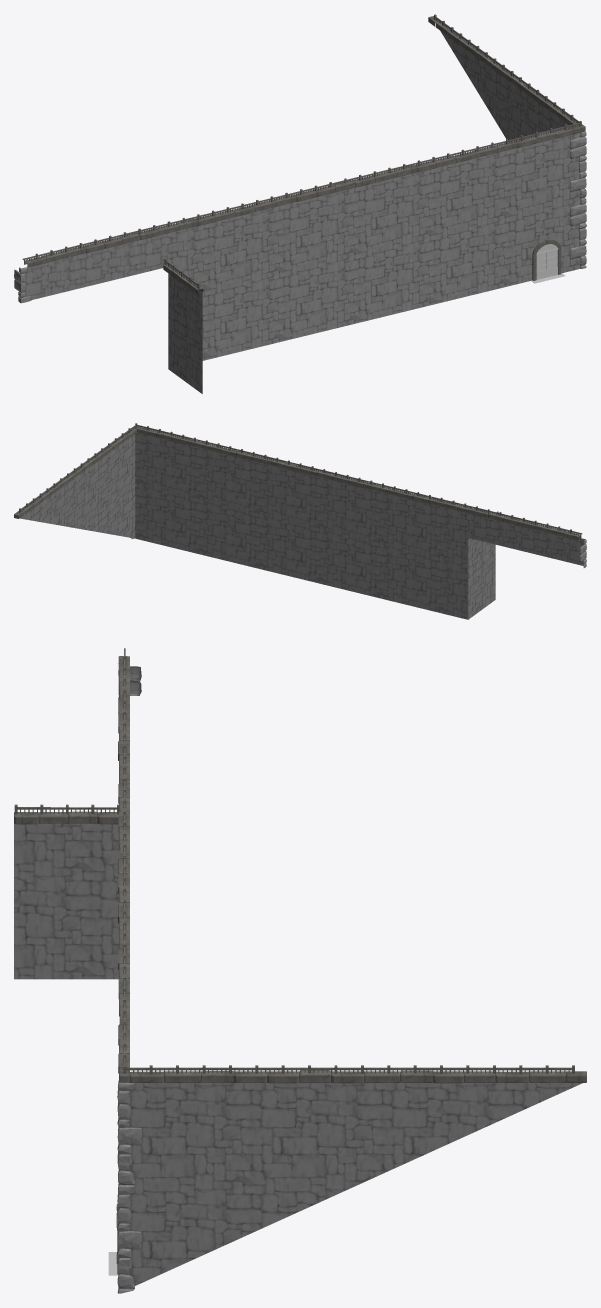
The model's file is SM_ENV_KNVLLG_Wall_01.mo.fbx.
3 views of the same model, one above another, from view 1: azimuth 30°, elevation 25°; view 2: azimuth 150°, elevation 25°; view 3: azimuth 270°, elevation 25° (orthographic). The views are drawn at different scales.
Visible parts, largest first — view 1: SM_ENV_KNVLLG_Wall_01.mo; view 2: SM_ENV_KNVLLG_Wall_01.mo; view 3: SM_ENV_KNVLLG_Wall_01.mo.
Part boxes in pixels (left/top/right/bottom): SM_ENV_KNVLLG_Wall_01.mo: left=14, top=14, right=586, bottom=393; SM_ENV_KNVLLG_Wall_01.mo: left=14, top=423, right=586, bottom=619; SM_ENV_KNVLLG_Wall_01.mo: left=14, top=648, right=586, bottom=1293.
Bounding box in the file's own units: 69.33 × 17.07 × 39.4.
